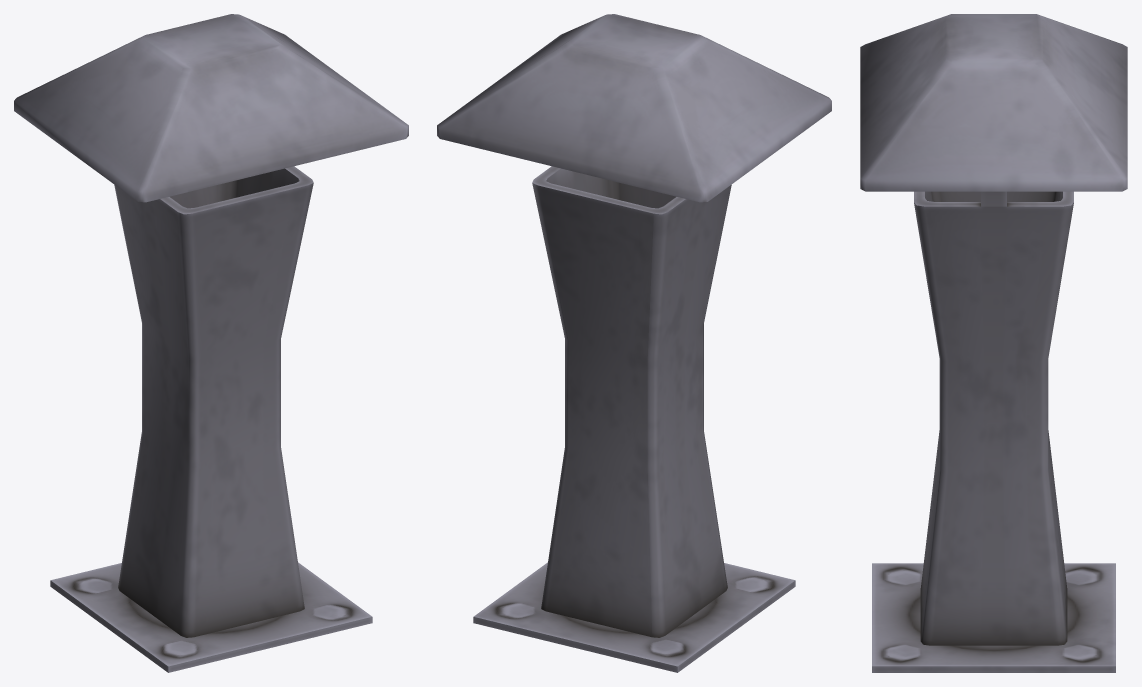
The model's file is RoofVent01_4.FBX.
The picture shows the model from 3 angles, left to right: view 1: azimuth 30°, elevation 25°; view 2: azimuth 150°, elevation 25°; view 3: azimuth 270°, elevation 25°; orthographic projection. The views are drawn at different scales.
Parts seen in each view (by area): view 1: RoofVent01_4; view 2: RoofVent01_4; view 3: RoofVent01_4.
Boxes of the visible parts, x1,y1,x2,y2 form: RoofVent01_4: (14,14,408,672); RoofVent01_4: (437,14,831,672); RoofVent01_4: (860,14,1127,672).
Size of what is drawn, in the model's own units: 0.6635 by 1.32 by 0.5477.
